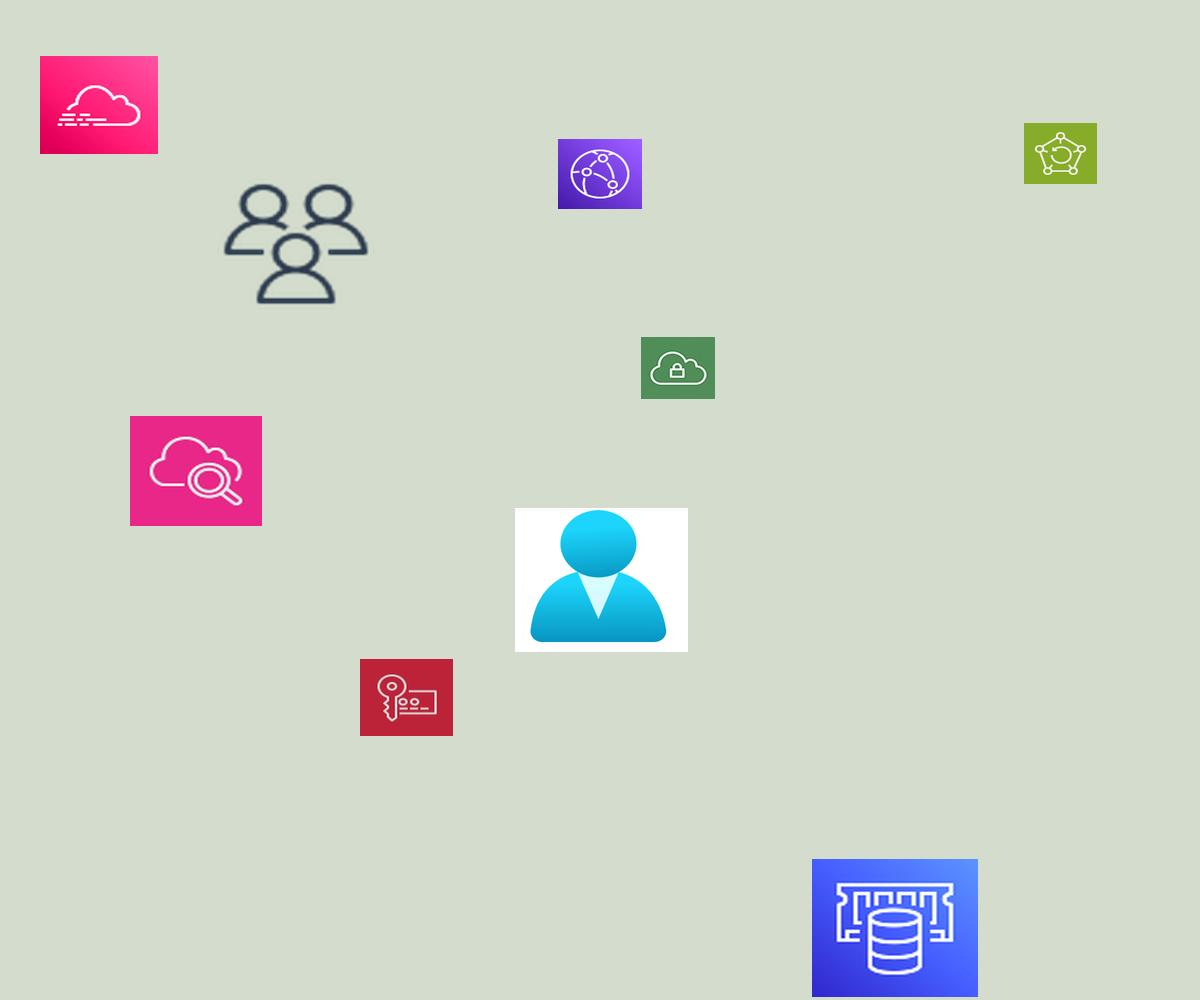AWS-Backup: (1024, 123, 1097, 184)
AWS-CloudFront: (558, 139, 642, 209)
AWS-CloudTrail: (40, 56, 158, 154)
AWS-CloudWatch: (130, 416, 262, 526)
AWS-ElastiCache: (812, 859, 978, 997)
AWS-Key-Management-Service: (360, 659, 453, 736)
AWS-Private_vpc: (641, 337, 715, 399)
AWS-Res_Users: (218, 179, 374, 309)
Azure_users: (515, 508, 688, 652)
